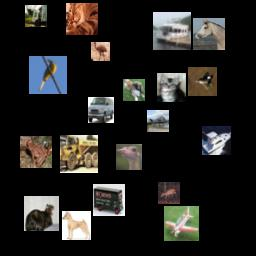airplane: (164, 206, 199, 241), (188, 67, 217, 96), (147, 110, 169, 132)
automobile: (88, 97, 114, 123)
bird: (29, 56, 67, 94), (116, 144, 142, 170), (91, 42, 110, 61)
cat: (24, 196, 59, 231), (66, 3, 98, 35), (157, 73, 186, 102)
deer: (158, 182, 180, 204)
dog: (62, 211, 91, 240), (123, 79, 145, 101)
frog: (20, 136, 52, 168)
ship: (153, 12, 191, 50), (202, 126, 231, 155)
truck: (60, 135, 98, 173), (93, 184, 125, 216), (25, 5, 47, 27)
